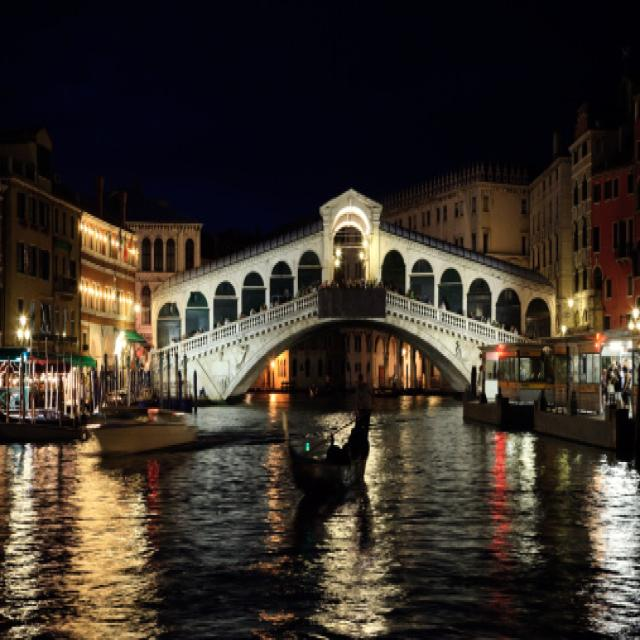Boat: (83, 383, 212, 505), (299, 393, 385, 498)
